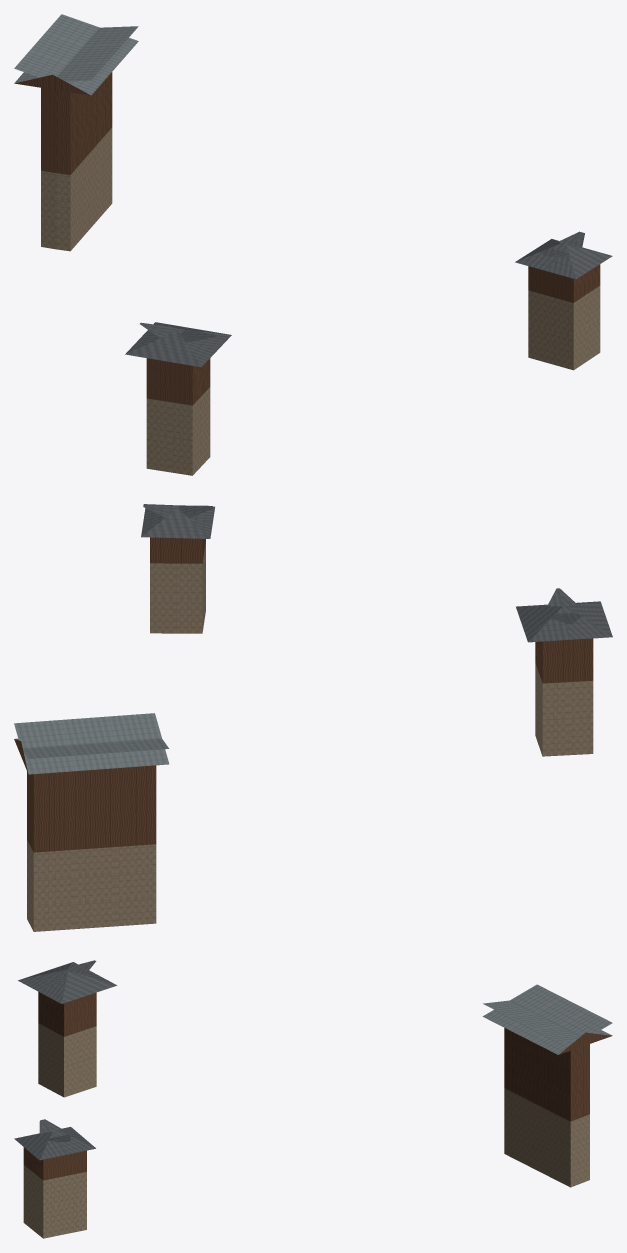
File: bld_c16_26_396.gltf
The picture shows the model from 3 angles, top to bottom: view 1: azimuth 30°, elevation 25°; view 2: azimuth 150°, elevation 25°; view 3: azimuth 270°, elevation 25°; orthographic projection. The views are drawn at different scales.
Visible parts, largest first — view 1: bld_c16_26_396; view 2: bld_c16_26_396; view 3: bld_c16_26_396.
Boxes of the visible parts, box(x1,y1,x2,y2) form: bld_c16_26_396: box(14, 14, 612, 475); bld_c16_26_396: box(14, 504, 612, 931); bld_c16_26_396: box(14, 960, 612, 1238).
Bounding box in the file's own units: 32.79 × 11.9 × 42.05.
5 materials, 5 textured.
